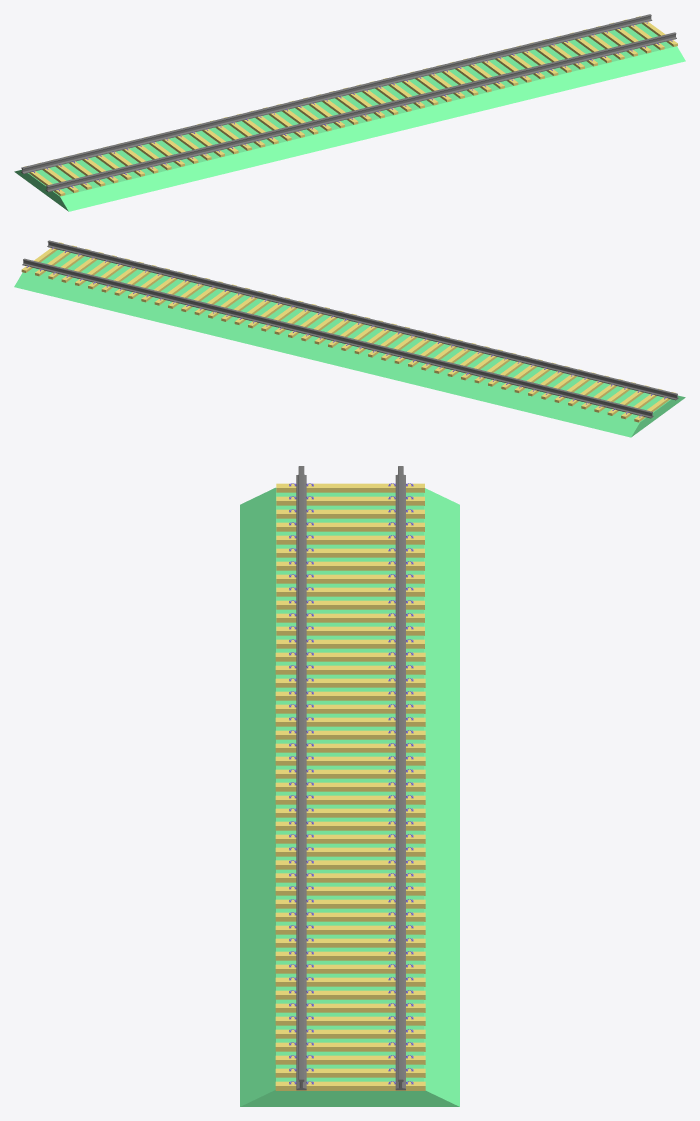
File: 有砟低.fbx
The picture shows the model from 3 angles, top to bottom: view 1: azimuth 30°, elevation 25°; view 2: azimuth 150°, elevation 25°; view 3: azimuth 270°, elevation 25°; orthographic projection. The views are drawn at different scales.
Visible parts, largest first — view 1: Daozha, Tiegui01, 对象001; view 2: Daozha, Tiegui01, 对象001; view 3: Daozha, 对象001, Tiegui01.
Part boxes in pixels (x1=…): Daozha: x1=14, y1=23, x2=685, y2=211; Tiegui01: x1=21, y1=14, x2=676, y2=192; 对象001: x1=25, y1=16, x2=677, y2=196; Daozha: x1=14, y1=249, x2=685, y2=437; Tiegui01: x1=22, y1=240, x2=678, y2=418; 对象001: x1=21, y1=242, x2=675, y2=422; Daozha: x1=240, y1=487, x2=459, y2=1106; 对象001: x1=275, y1=483, x2=425, y2=1090; Tiegui01: x1=296, y1=466, x2=405, y2=1090.
Bounding box in the file's own units: 932 × 22.81 × 141.
